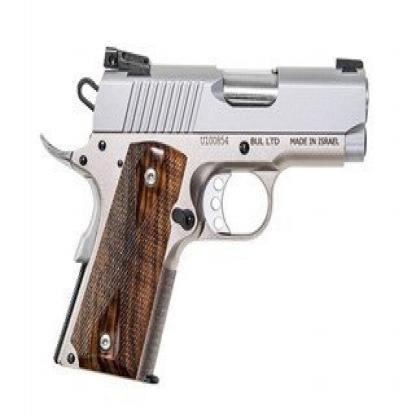Pistol: (35, 40, 370, 382)
